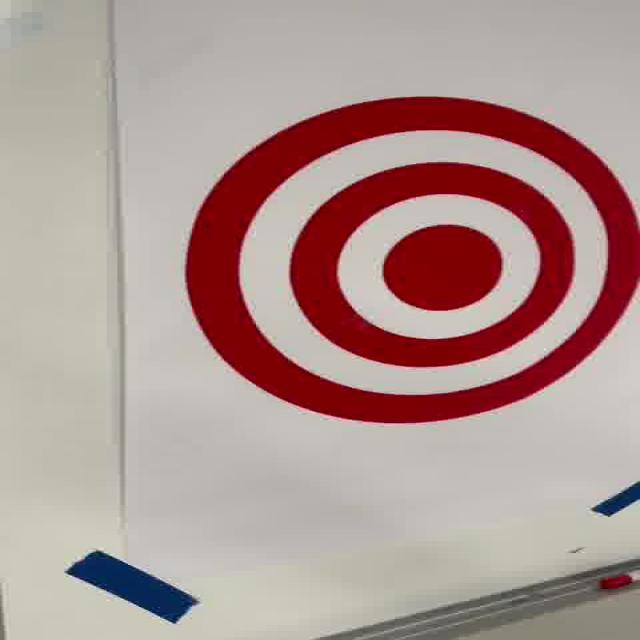target_red: (187, 95, 640, 422)
